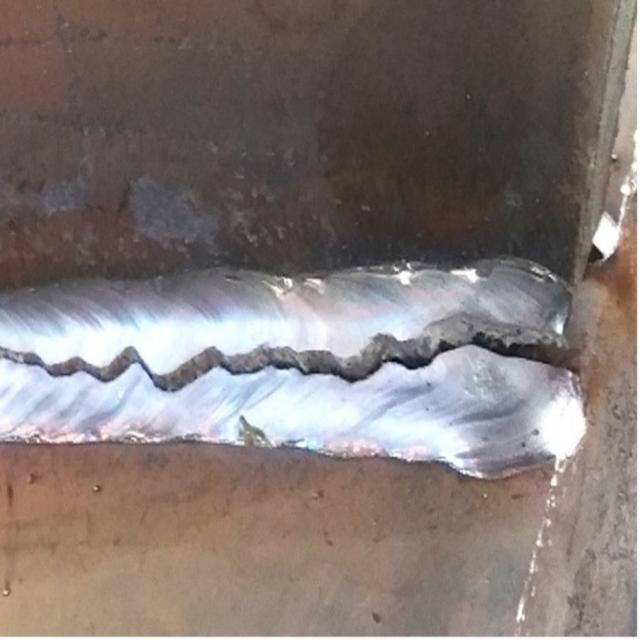Crack: (1, 311, 576, 393)
